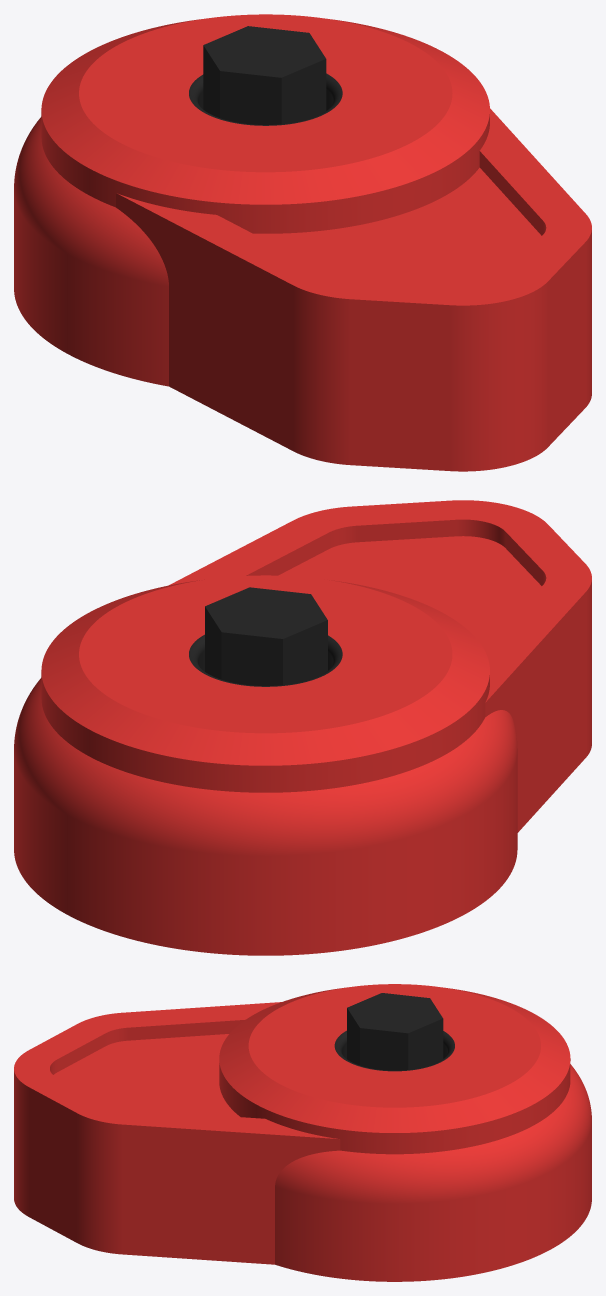
Rendered from SwitchRotate.fbx.
3 renders of one model, top to bottom at view 1: azimuth 30°, elevation 25°; view 2: azimuth 150°, elevation 25°; view 3: azimuth 270°, elevation 25°, orthographic. The views are drawn at different scales.
Parts seen in each view (by area): view 1: 04Valve Pivot; view 2: 04Valve Pivot; view 3: 04Valve Pivot.
Part boxes in pixels (bbox=[...]): 04Valve Pivot: bbox=[14, 14, 591, 471]; 04Valve Pivot: bbox=[14, 500, 591, 955]; 04Valve Pivot: bbox=[14, 984, 591, 1281].
Bounding box in the file's own units: 30.42 × 15.76 × 44.6.
